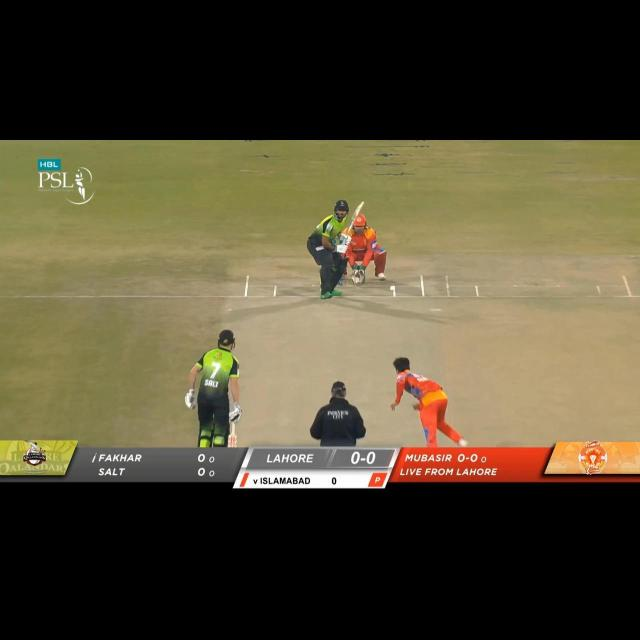bat: (344, 200, 366, 237), (228, 434, 240, 449)
toe: (356, 199, 366, 210)
